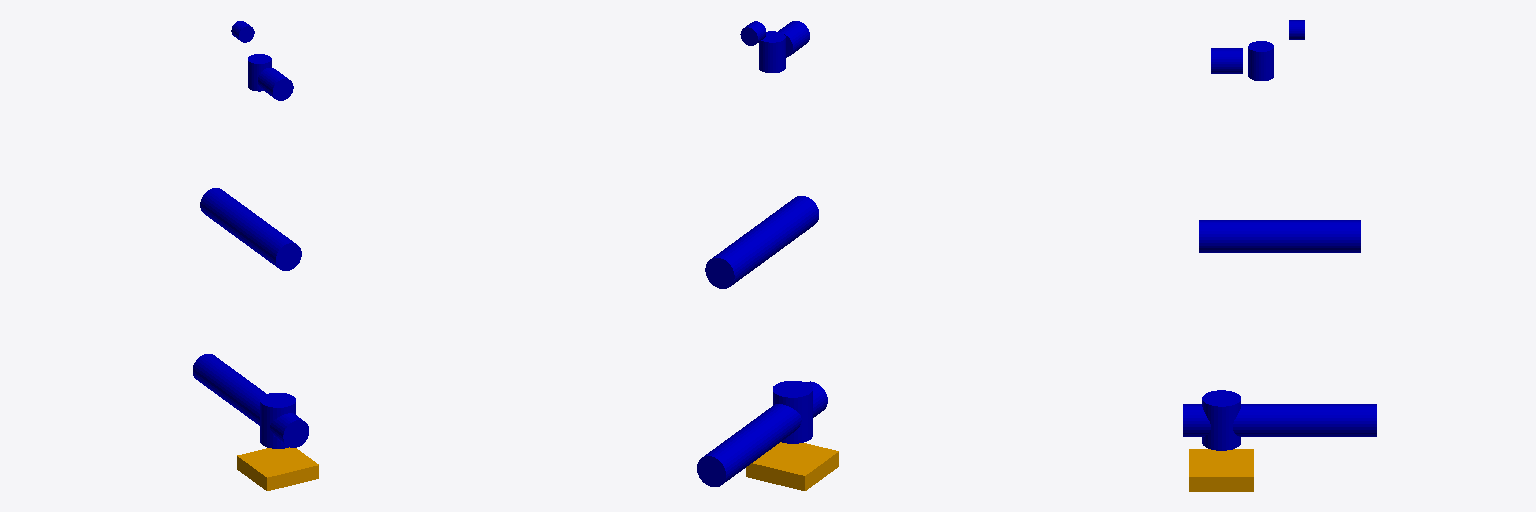
URDF robot description (ka_ur):
<?xml version="1.0"?>
<robot name="ka_ur">

  <!-- Base Link -->
  <link name="base_link">
    <visual>
      <geometry>
        <box size="0.2 0.2 0.05"/>
      </geometry>
    </visual>
  </link>

  
  <link name="link1">
    <visual>
      <geometry>
        <cylinder length="0.15" radius="0.06"/>
      </geometry>
      <material name="blue">
        <color rgba="0 0 0.8 1"/>
      </material>
    </visual>
  </link>

  
  <link name="link2">
    <visual>
      <geometry>
        <cylinder length="0.6" radius="0.05"/>
      </geometry>
      <material name="blue">
        <color rgba="0 0 0.8 1"/>
      </material>
    </visual>
  </link>

  
  <link name="link3">
    <visual>
      <geometry>
        <cylinder length="0.5" radius="0.05"/>
      </geometry>
      <material name="blue">
        <color rgba="0 0 0.8 1"/>
      </material>
    </visual>
  </link>

  
  <link name="link4">
    <visual>
      <geometry>
        <cylinder length="0.1" radius="0.04"/>
      </geometry>
      <material name="blue">
        <color rgba="0 0 0.8 1"/>
      </material>
    </visual>
  </link>

  
  <link name="link5">
    <visual>
      <geometry>
        <cylinder length="0.1" radius="0.04"/>
      </geometry>
      <material name="blue">
        <color rgba="0 0 0.8 1"/>
      </material>
    </visual>
  </link>

  
  <link name="link6">
    <visual>
      <geometry>
        <cylinder length="0.05" radius="0.03"/>
      </geometry>
      <material name="blue">
        <color rgba="0 0 0.8 1"/>
      </material>
    </visual>
  </link>

  
  <!-- TCP Link (End Effector) -->
  <link name="tool0"/>

  <!-- Joint 1: Base -> Link1 -->
  <!-- Logic: tz(0.1693) * Rz -->
  
  <joint name="joint1" type="revolute">
    <parent link="base_link"/>
    <child link="link1"/>
    <origin xyz="0 0 0.1693" rpy="0 0 0"/>
    <axis xyz="0 0 1"/>
    <limit lower="-3.14" upper="3.14" effort="100" velocity="3.0"/>
  </joint>


  <!-- Joint 2: Link1 -> Link2 -->
  <!-- Logic: ty(0.1793) * Rx(-90) * Rz -->
  
  <joint name="joint2" type="revolute">
    <parent link="link1"/>
    <child link="link2"/>
    <origin xyz="0 0.1793 0" rpy="-1.5707963267948966 0 0"/>
    <axis xyz="0 0 1"/>
    <limit lower="-3.14" upper="3.14" effort="100" velocity="3.0"/>
  </joint>


  <!-- Joint 3: Link2 -> Link3 -->
  <!-- Logic: ty(-0.625) * Rz -->
  
  <joint name="joint3" type="revolute">
    <parent link="link2"/>
    <child link="link3"/>
    <origin xyz="0 -0.625 0" rpy="0 0 0"/>
    <axis xyz="0 0 1"/>
    <limit lower="-3.14" upper="3.14" effort="100" velocity="3.0"/>
  </joint>


  <!-- Joint 4: Link3 -> Link4 -->
  <!-- Logic: tz(-0.1626) * ty(-0.595) * Rz -->
  
  <joint name="joint4" type="revolute">
    <parent link="link3"/>
    <child link="link4"/>
    <origin xyz="0 -0.595 -0.1626" rpy="0 0 0"/>
    <axis xyz="0 0 1"/>
    <limit lower="-3.14" upper="3.14" effort="100" velocity="3.0"/>
  </joint>


  <!-- Joint 5: Link4 -> Link5 -->
  <!-- Logic: tz(0.1052) * Rx(90) * Rz -->
  
  <joint name="joint5" type="revolute">
    <parent link="link4"/>
    <child link="link5"/>
    <origin xyz="0 0 0.1052" rpy="1.5707963267948966 0 0"/>
    <axis xyz="0 0 1"/>
    <limit lower="-3.14" upper="3.14" effort="100" velocity="3.0"/>
  </joint>


  <!-- Joint 6: Link5 -> Link6 -->
  <!-- Logic: tz(0.1052) * ty(0.11) * Rx(-90) * Rz -->
  
  <joint name="joint6" type="revolute">
    <parent link="link5"/>
    <child link="link6"/>
    <origin xyz="0 0.11 0.1052" rpy="-1.5707963267948966 0 0"/>
    <axis xyz="0 0 1"/>
    <limit lower="-3.14" upper="3.14" effort="100" velocity="3.0"/>
  </joint>


  <!-- TCP Joint (Fixed) -->
  <joint name="joint_tcp" type="fixed">
    <parent link="link6"/>
    <child link="tool0"/>
    <origin xyz="0 0 0" rpy="0 0 0"/>
  </joint>

</robot>

--- Render facts (derived) ---
3 views of the same robot in one strip: view 1: azimuth 30°, elevation 25°; view 2: azimuth 150°, elevation 25°; view 3: azimuth 270°, elevation 25° (orthographic).
Model ka_ur with 8 links and 7 joints (6 revolute, 1 fixed), rooted at base_link, posed every joint at zero.
Links seen in each view (by area): view 1: link3, link2, base_link, link1, link4, link5; view 2: link3, link2, base_link, link1, link5, link4; view 3: link2, link3, base_link, link1, link5, link4.
Link boxes in pixels (x1,y1,x2,y2): link3: (200, 188, 301, 270); link2: (193, 354, 308, 447); base_link: (237, 447, 318, 490); link1: (260, 393, 295, 448); link4: (258, 68, 293, 100); link5: (248, 54, 271, 91); link3: (705, 196, 818, 288); link2: (697, 381, 827, 486); base_link: (746, 442, 838, 490); link1: (773, 381, 812, 443); link5: (759, 31, 785, 72); link4: (778, 21, 809, 57); link2: (1183, 404, 1376, 436); link3: (1199, 220, 1360, 252); base_link: (1189, 449, 1253, 491); link1: (1202, 390, 1240, 450); link5: (1248, 41, 1273, 80); link4: (1211, 48, 1242, 73).
Bounding box of the posed robot: 0.2 × 0.6 × 1.55 m (x, y, z).
Geometry: primitives only (box / cylinder / sphere), no mesh files.
